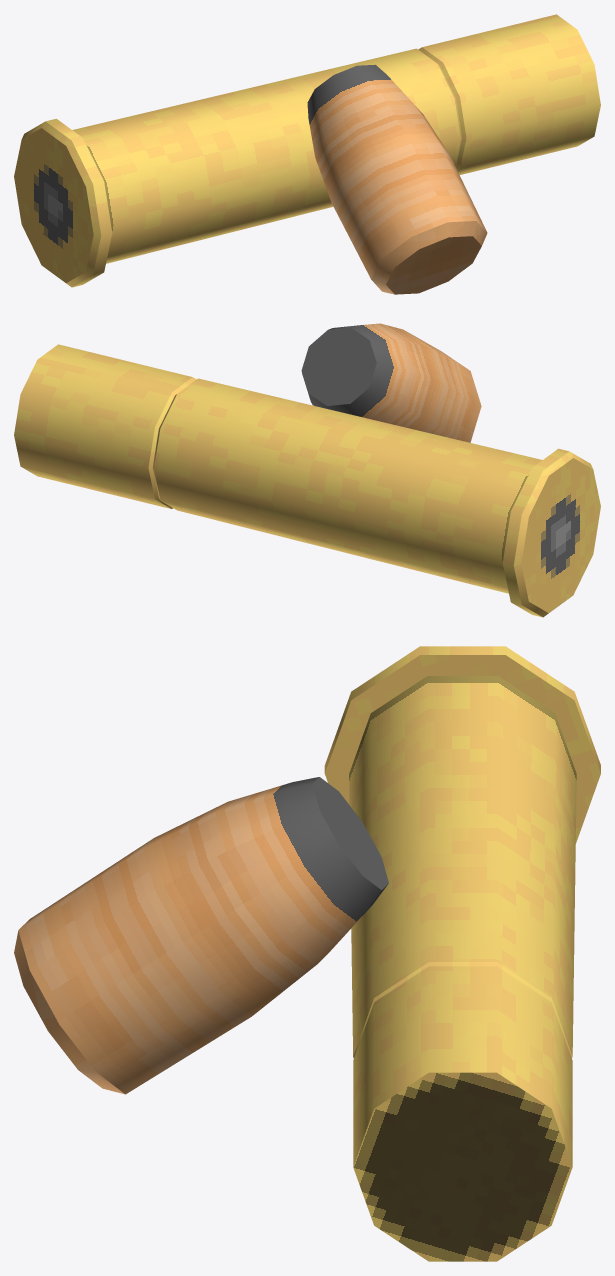
The model's file is ammomaker_PartsStraightLRim.fbx.
3 renders of one model, top to bottom at view 1: azimuth 30°, elevation 25°; view 2: azimuth 150°, elevation 25°; view 3: azimuth 270°, elevation 25°, orthographic. The views are drawn at different scales.
Parts seen in each view (by area): view 1: ammomaker_PartsStraightRimL; view 2: ammomaker_PartsStraightRimL; view 3: ammomaker_PartsStraightRimL.
Part boxes in pixels (bbox=[...]): ammomaker_PartsStraightRimL: bbox=[14, 14, 600, 294]; ammomaker_PartsStraightRimL: bbox=[14, 323, 600, 617]; ammomaker_PartsStraightRimL: bbox=[14, 646, 600, 1261].
Bounding box in the file's own units: 5.33 × 1.84 × 3.26.
